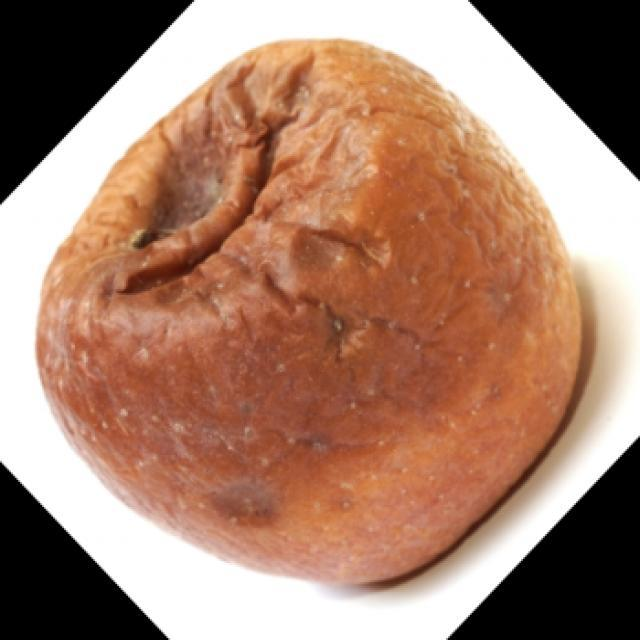Rotten: (35, 52, 582, 558)
